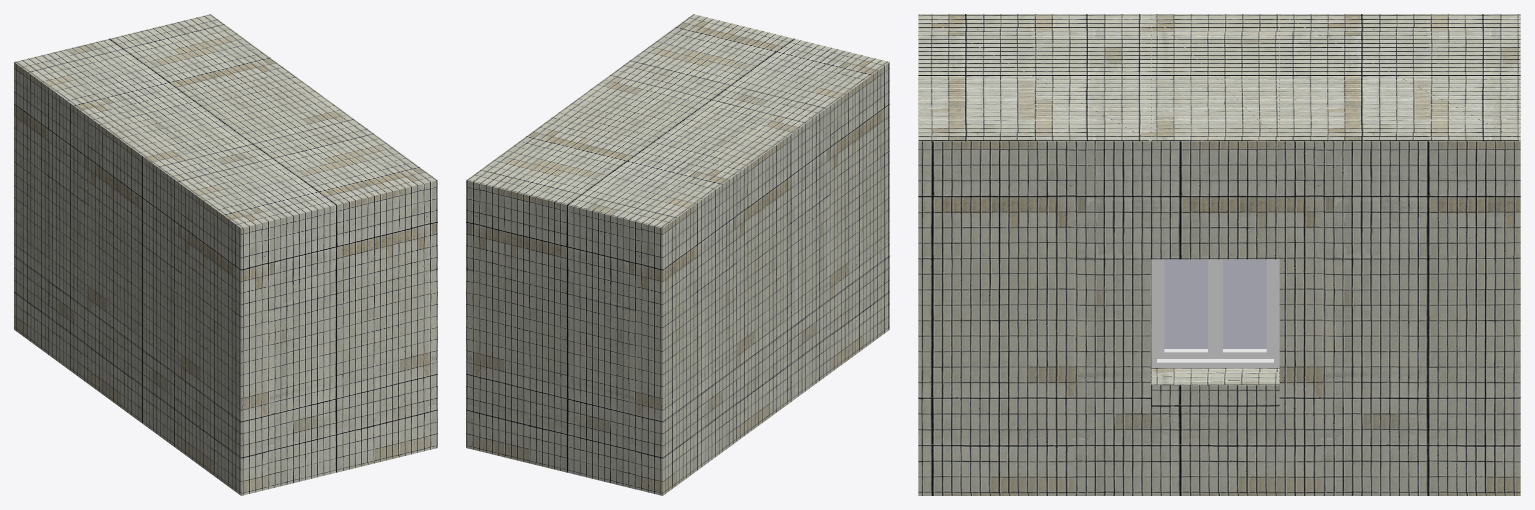
Rendered from simpleBuilding_v2.fbx.
3 views of the same model, side by side, from view 1: azimuth 30°, elevation 25°; view 2: azimuth 150°, elevation 25°; view 3: azimuth 270°, elevation 25° (orthographic). The views are drawn at different scales.
Parts seen in each view (by area): view 1: simpleBuilding; view 2: simpleBuilding; view 3: simpleBuilding.
Part boxes in pixels (x1,y1,x2,y2): simpleBuilding: [14, 14, 437, 495]; simpleBuilding: [466, 14, 889, 495]; simpleBuilding: [918, 14, 1520, 495].
Bounding box in the file's own units: 212 × 260 × 400.
3 materials, 1 textured.
